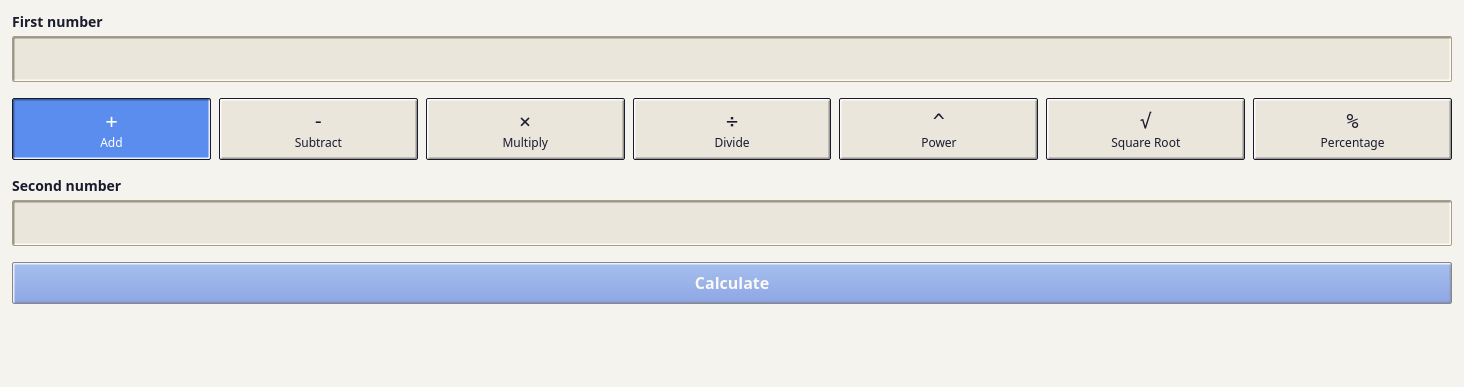
Test: Calculator › calculating › sends the selected operation
Click the radio button labelled "Multiply" at (525, 129), box [426,98,625,160]
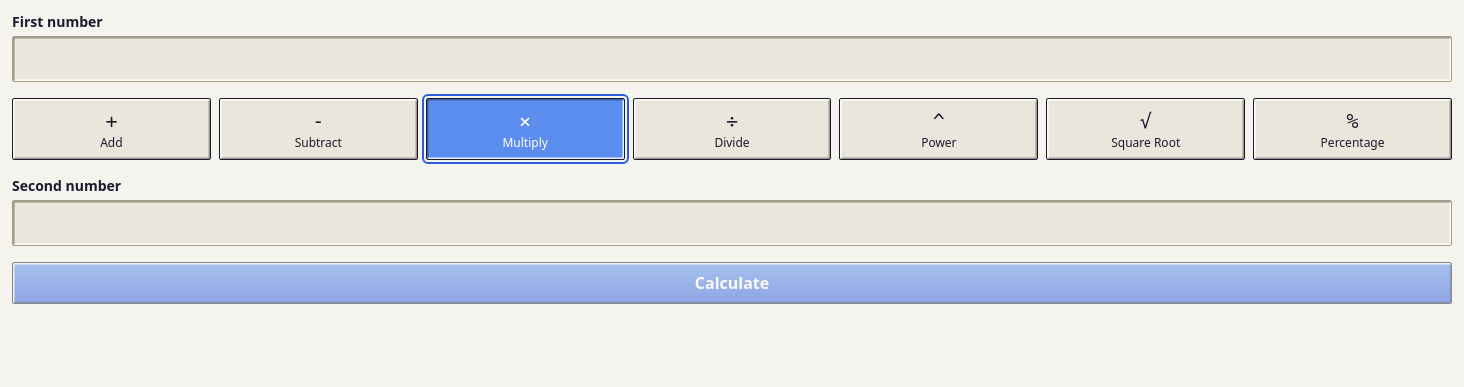
Type "6" into the field labelled "First number" at (732, 59), box [12,36,1452,82]
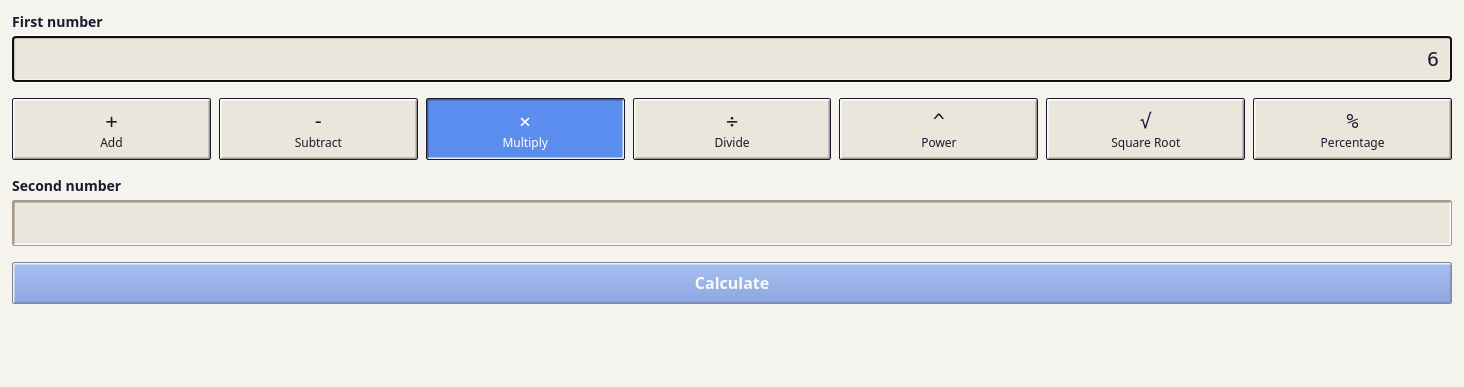
Type "3" into the field labelled "Second number" at (732, 223), box [12,200,1452,246]
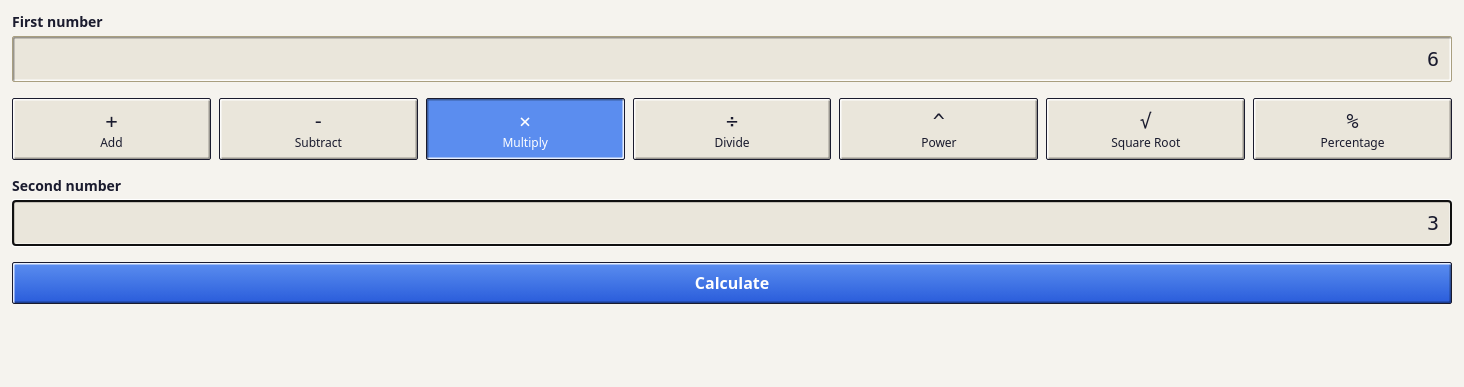
Click the button "Calculate" at (732, 283), box [12,262,1452,304]
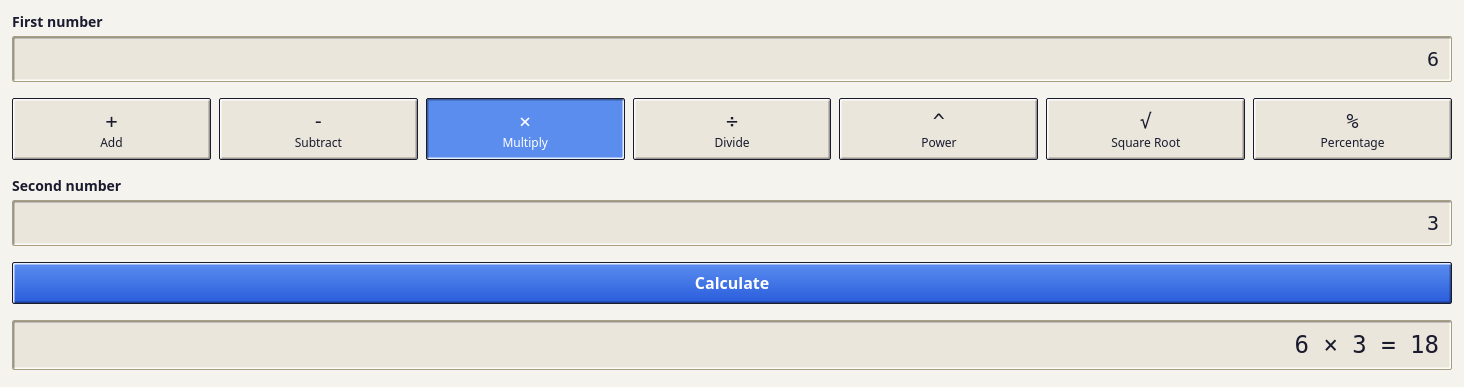
Now the message reads "6 × 3 = 18", box [1294,331,1439,359]
